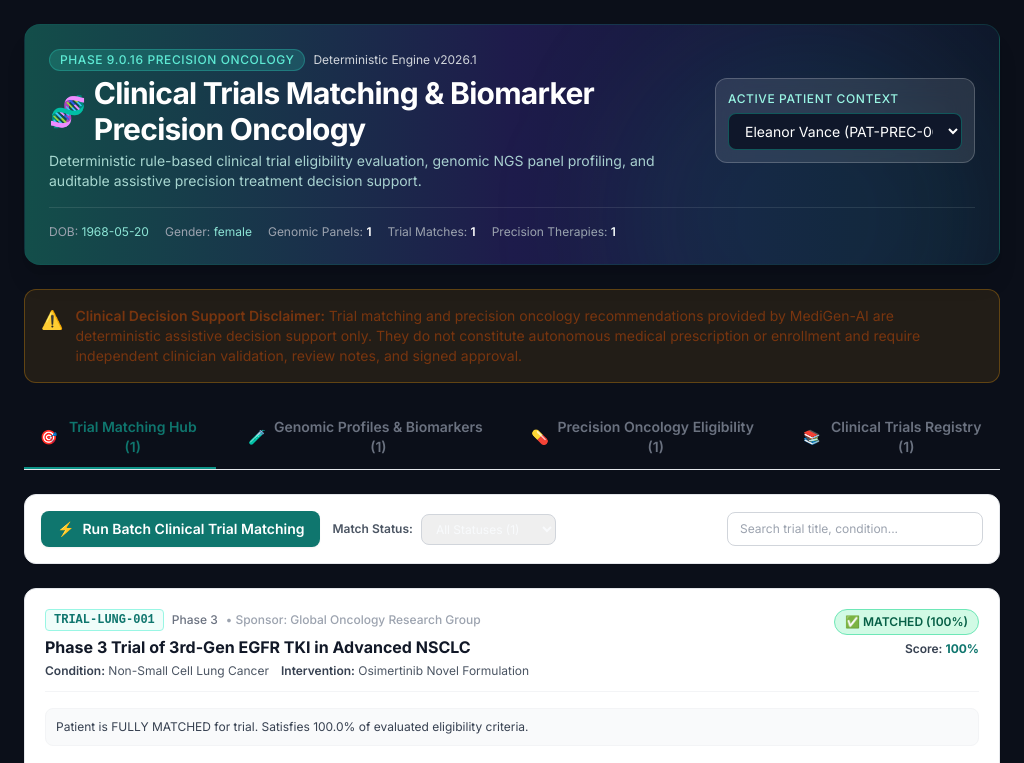
Test: Phase 9.0.16: TrialsPrecisionWorkspace Component › navigates to Genomic Profiles tab and displays NGS panels and biomarkers
The width and height of the screenshot is (1024, 763).
Click the button with test id "tab-genomics". click: (366, 438)
box: [232, 407, 499, 469]
(page scrolled)
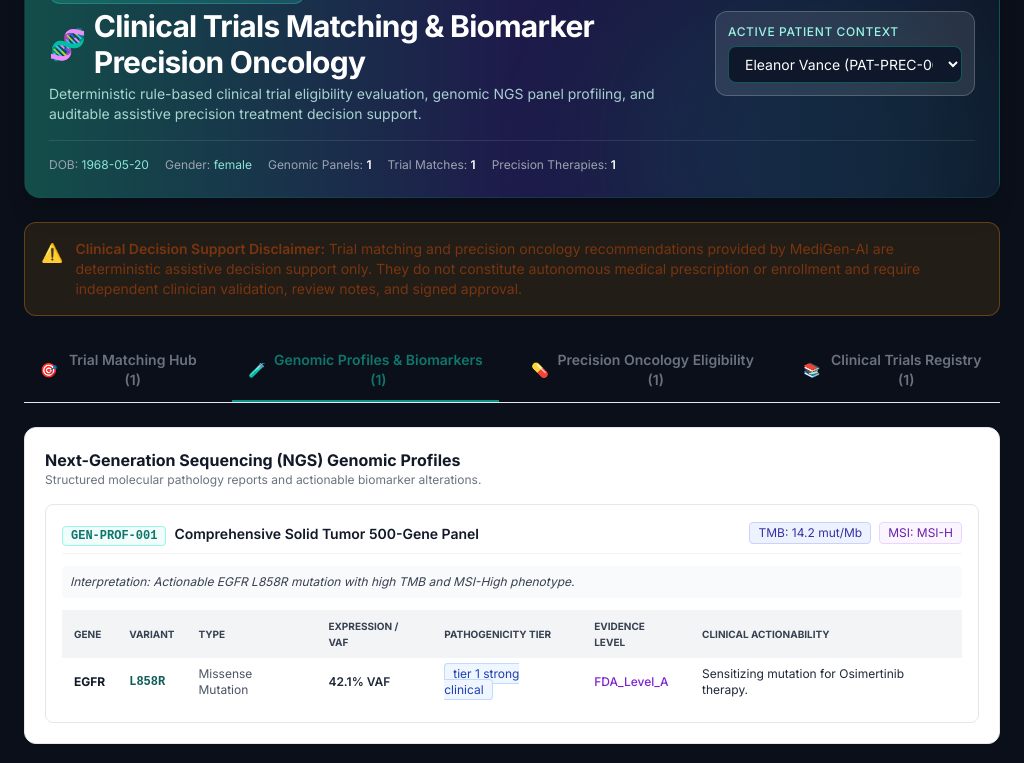
expect the element with test id "genomics-tab" is shown: met, box [24, 427, 1000, 744]
expect the text "Comprehensive Solid Tumor 500-Gene Panel" is shown: met, box [174, 525, 479, 542]
expect the text "TMB: 14.2 mut/Mb" is shown: met, box [750, 522, 871, 544]
